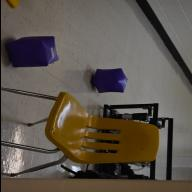cone: (6, 0, 20, 9)
cube: (4, 36, 59, 68), (90, 68, 128, 94)
